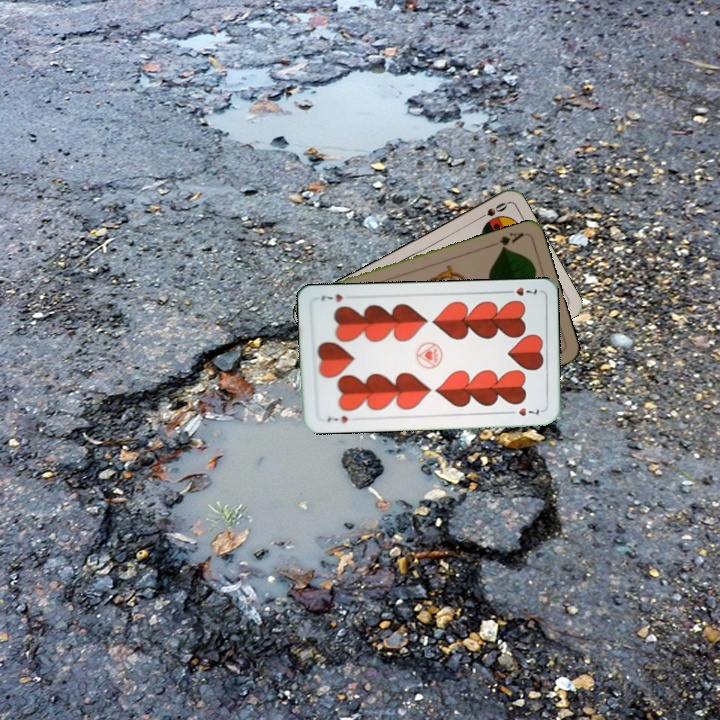GA: (488, 228, 526, 252)
H7: (501, 283, 540, 299), (323, 412, 353, 425)
SO: (472, 198, 510, 224)
